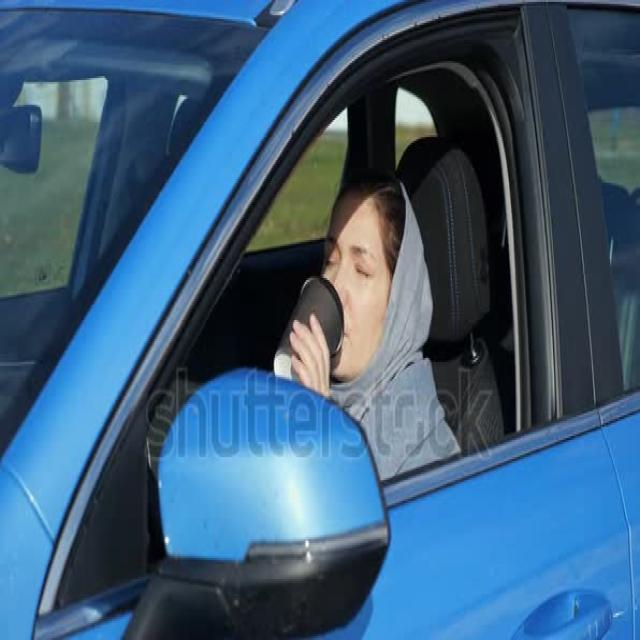human: (291, 176, 461, 497)
trash: (274, 258, 344, 399)
